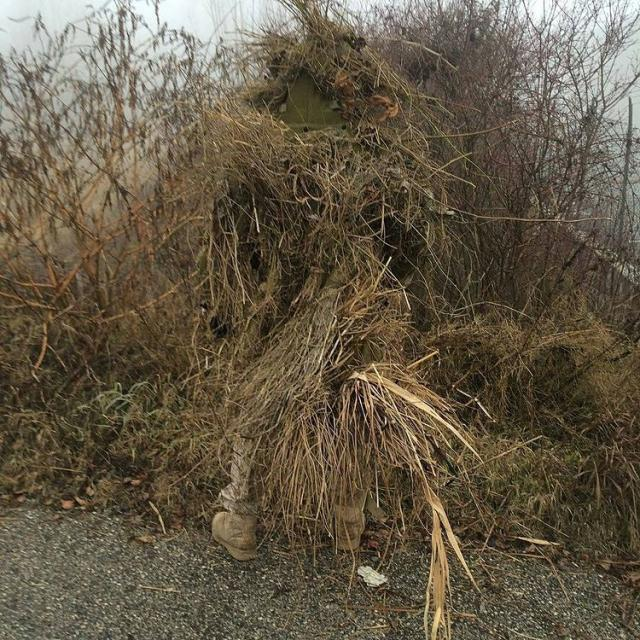Camouflage: (211, 23, 456, 560)
